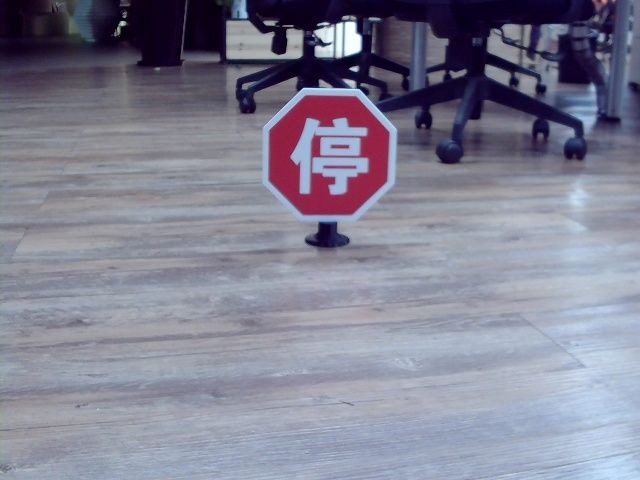stop: (288, 112, 369, 194)
